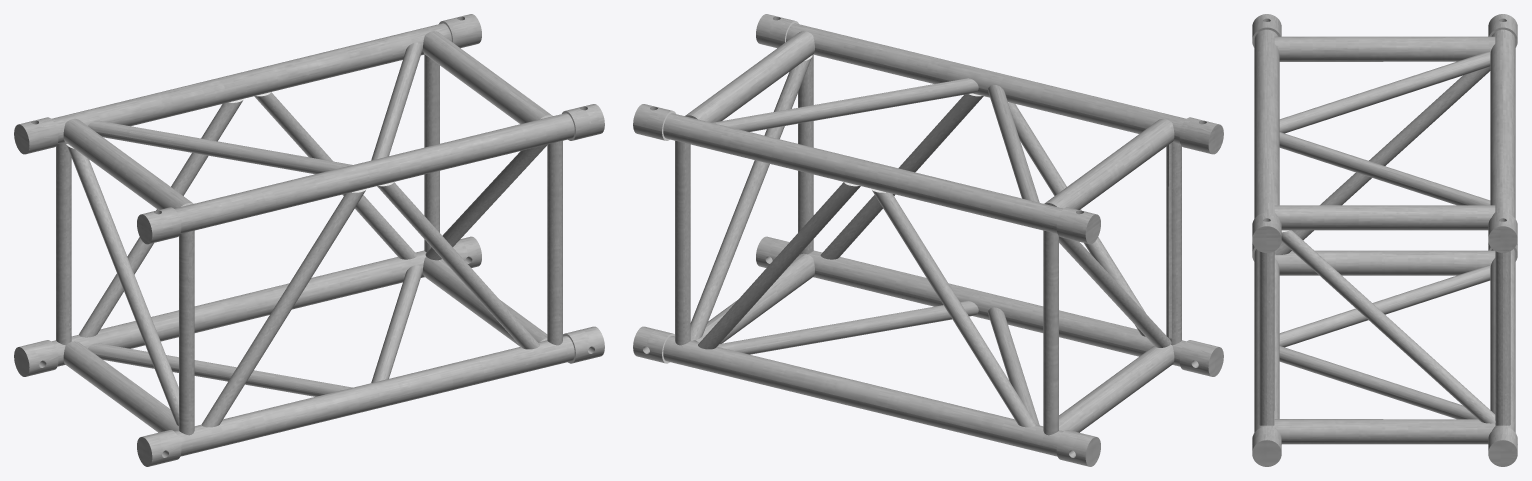
Rendered from Milos_M520_1000_truss_section-3480dbe1.glb.
The picture shows the model from 3 angles, left to right: view 1: azimuth 30°, elevation 25°; view 2: azimuth 150°, elevation 25°; view 3: azimuth 270°, elevation 25°; orthographic projection. The views are drawn at different scales.
Visible parts, largest first — view 1: Geom3D; view 2: Geom3D; view 3: Geom3D.
Part boxes in pixels (x1,y1,x2,y2): Geom3D: (14, 14, 604, 466); Geom3D: (633, 14, 1223, 466); Geom3D: (1252, 14, 1517, 466).
Size of the model in its own units: 1 by 0.529 by 0.529.
Materials: 2 (1 with a texture image).
